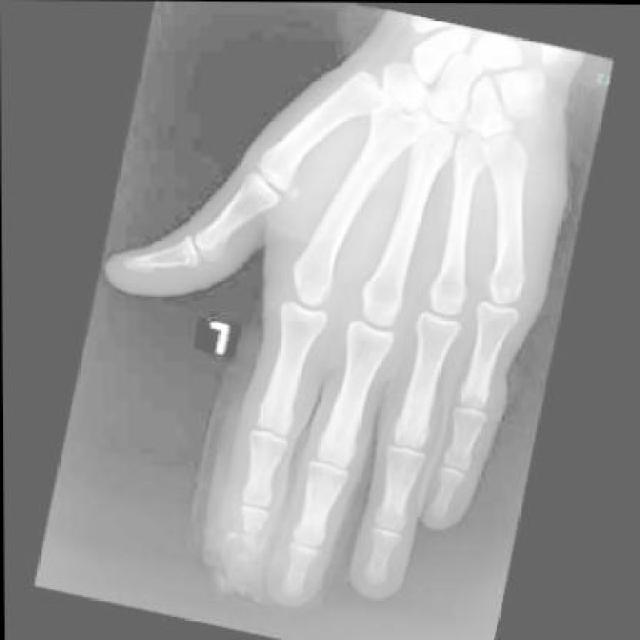Fracture: (200, 514, 288, 606)
